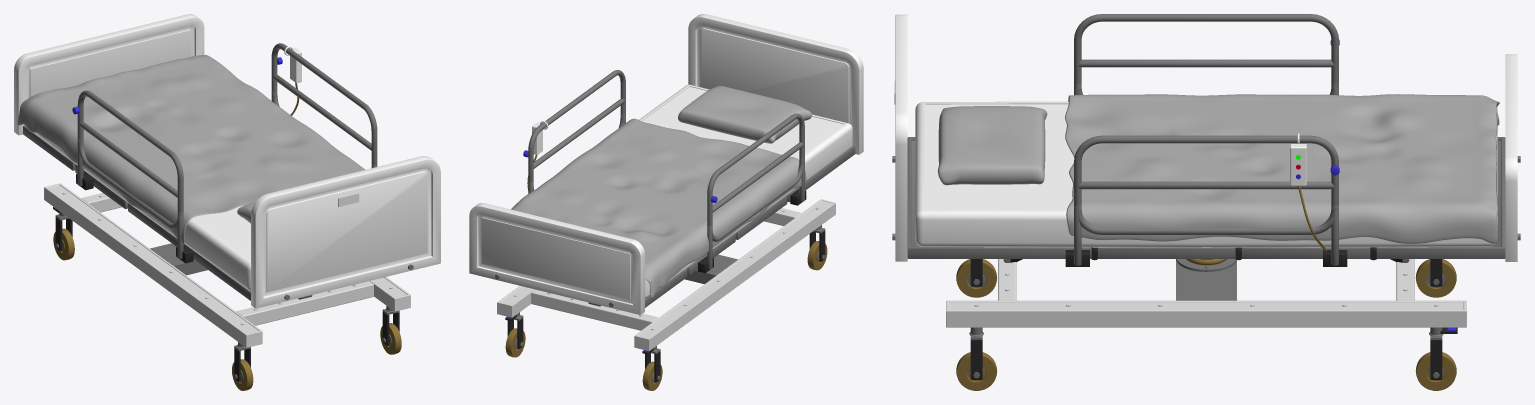
File: mazy-lit-hopital.glb
3 renders of one model, left to right at view 1: azimuth 30°, elevation 25°; view 2: azimuth 150°, elevation 25°; view 3: azimuth 270°, elevation 25°, orthographic. The views are drawn at different scales.
Visible parts, largest first — view 1: Sheet, Headboard, Footboard, Crossbars, Rail, Mattress, Frame, Caster, Deck, Column, Details; view 2: Sheet, Footboard, Headboard, Crossbars, Mattress, Rail, Pillow, Frame, Caster, Deck, Column; view 3: Sheet, Mattress, Crossbars, Rail, Deck, Pillow, Caster, Headboard, Footboard, Column, Frame, Details.
Part boxes in pixels (left/top/right/bottom): Sheet: left=17, top=54, right=365, bottom=244; Headboard: left=251, top=156, right=440, bottom=308; Footboard: left=14, top=14, right=204, bottom=135; Crossbars: left=44, top=183, right=410, bottom=347; Rail: left=72, top=43, right=377, bottom=263; Mattress: left=34, top=133, right=250, bottom=290; Frame: left=81, top=193, right=373, bottom=325; Caster: left=53, top=211, right=401, bottom=390; Deck: left=23, top=125, right=250, bottom=300; Column: left=150, top=243, right=207, bottom=275; Details: left=284, top=46, right=359, bottom=206; Sheet: left=511, top=118, right=806, bottom=298; Footboard: left=469, top=203, right=644, bottom=314; Headboard: left=688, top=14, right=863, bottom=154; Crossbars: left=497, top=199, right=835, bottom=350; Mattress: left=639, top=84, right=852, bottom=298; Rail: left=523, top=70, right=806, bottom=273; Pillow: left=678, top=85, right=811, bottom=143; Frame: left=531, top=208, right=801, bottom=330; Caster: left=505, top=225, right=827, bottom=390; Deck: left=645, top=145, right=855, bottom=307; Column: left=685, top=254, right=737, bottom=283; Sheet: left=1065, top=94, right=1499, bottom=243; Mattress: left=915, top=101, right=1497, bottom=247; Crossbars: left=946, top=300, right=1466, bottom=327; Rail: left=1065, top=14, right=1347, bottom=266; Deck: left=907, top=137, right=1505, bottom=260; Pillow: left=937, top=106, right=1047, bottom=185; Caster: left=956, top=259, right=1456, bottom=390; Headboard: left=892, top=14, right=907, bottom=261; Footboard: left=1505, top=54, right=1520, bottom=261; Column: left=1176, top=259, right=1236, bottom=300; Frame: left=998, top=259, right=1414, bottom=300; Details: left=894, top=80, right=1326, bottom=251.
Bounding box in the file's own units: 1.04 × 1 × 2.05.
